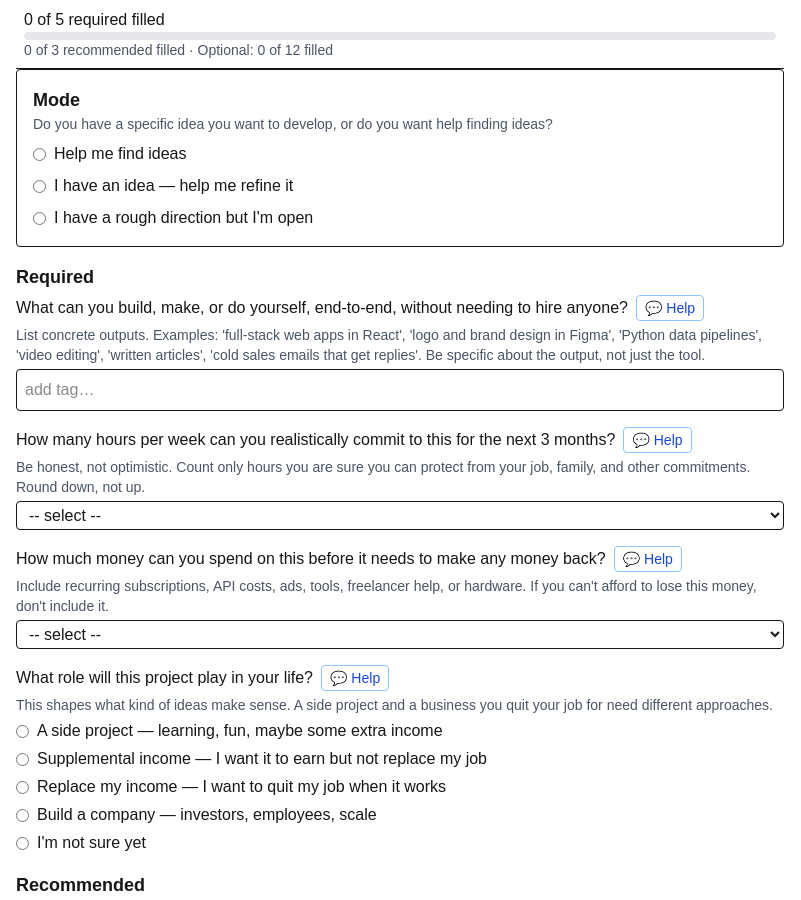
ProfileForm › shows error message when submit fetch fails
Note: Fill required
Click the radio button labelled "Help me find ideas" at (40, 154), box 33,148 -> 46,160
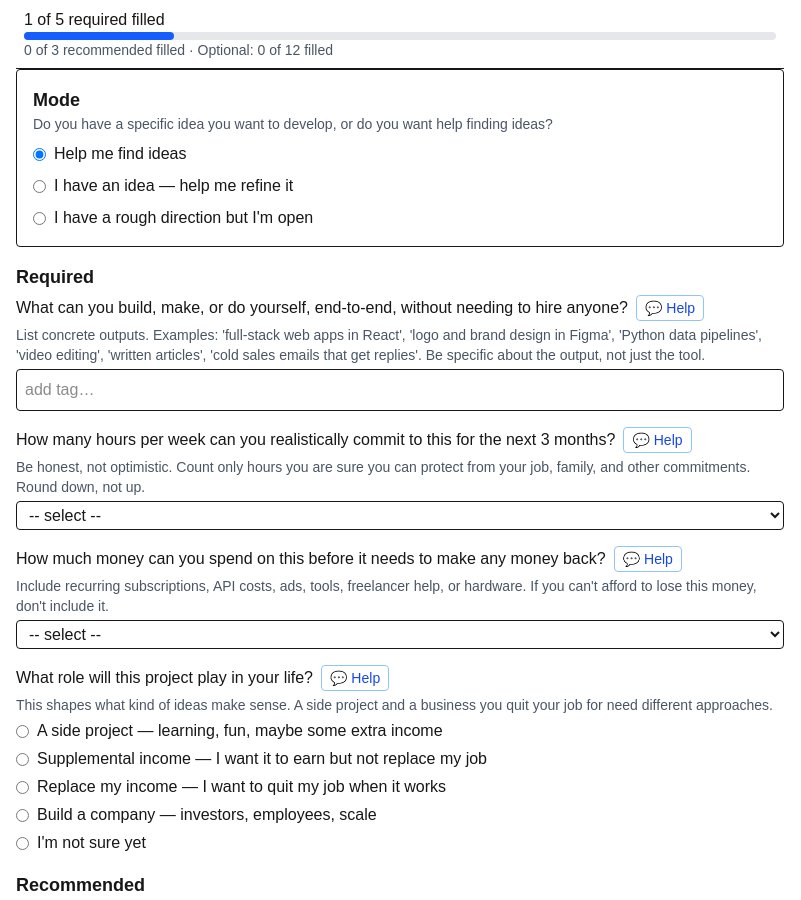
Type "React" into the field with placeholder "add tag…" at (400, 390), box 25,378 -> 775,402
Press Enter in the field with placeholder "add tag…", box 25,378 -> 775,402
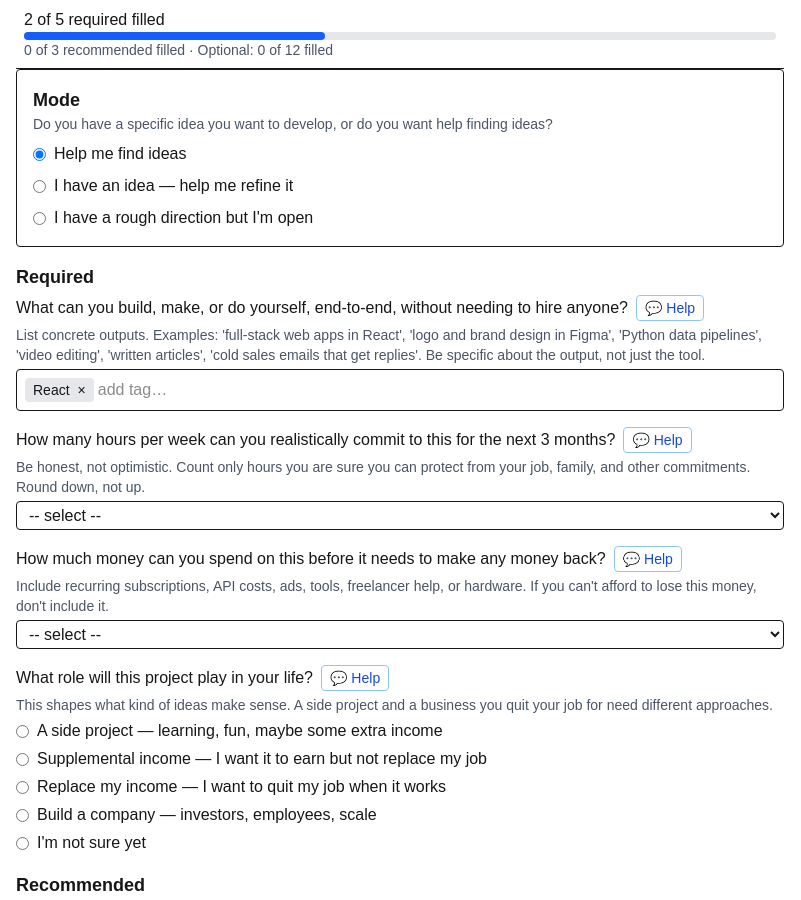
Select "10 hours" in the 1st dropdown at (400, 516), box 16,501 -> 784,530
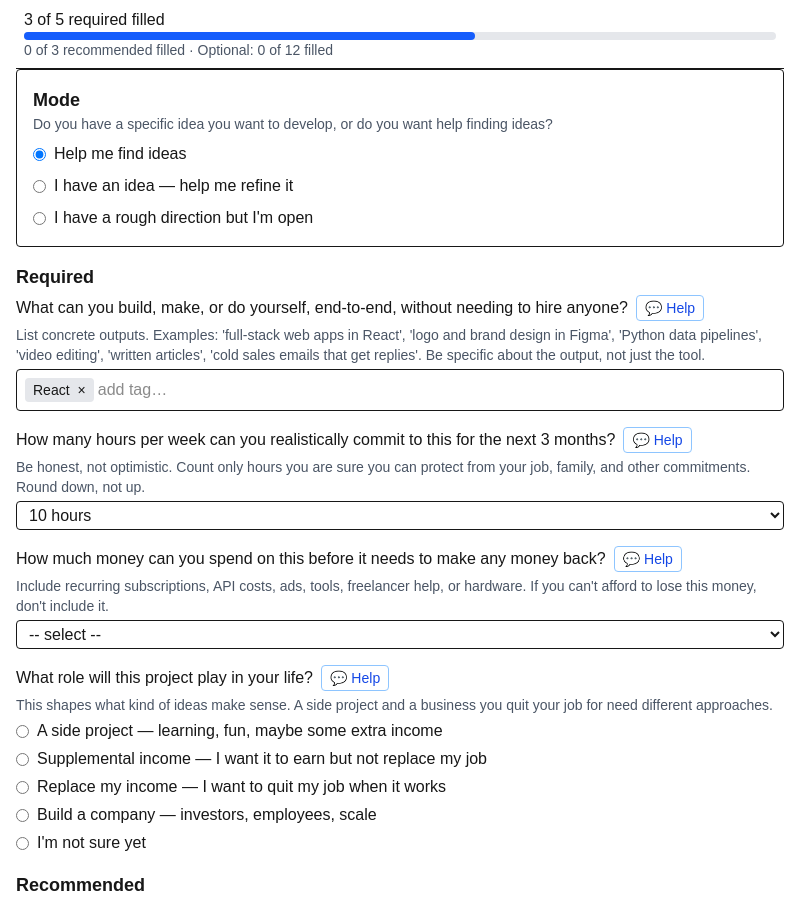
Select "Under $500" in the 2nd dropdown at (400, 634), box 16,620 -> 784,649
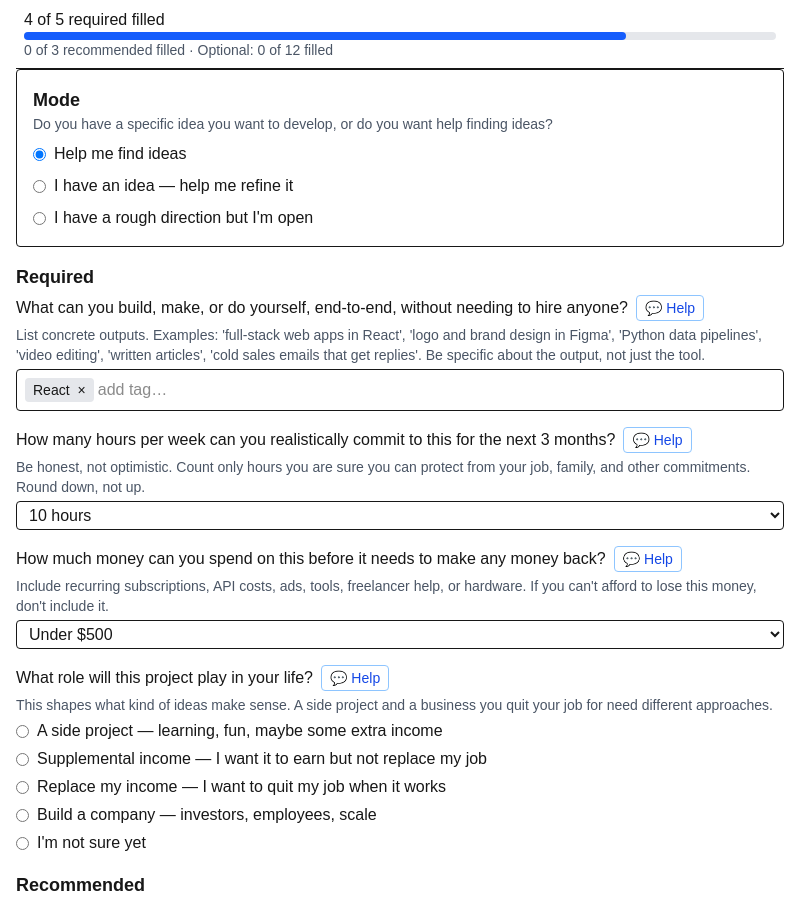
Click the radio button labelled "A side project — learning, fun, maybe some extra income" at (22, 731), box 16,724 -> 29,738
(page scrolled)
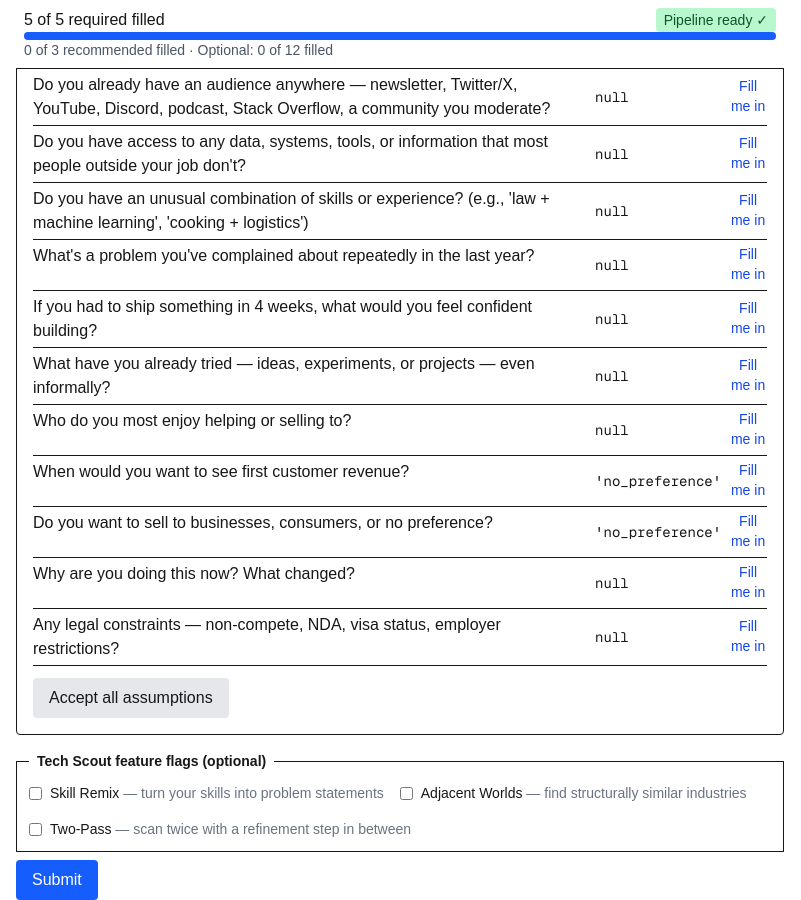
Result: the button "Submit" is enabled
Click the button "Submit" at (57, 880), box 16,860 -> 98,899
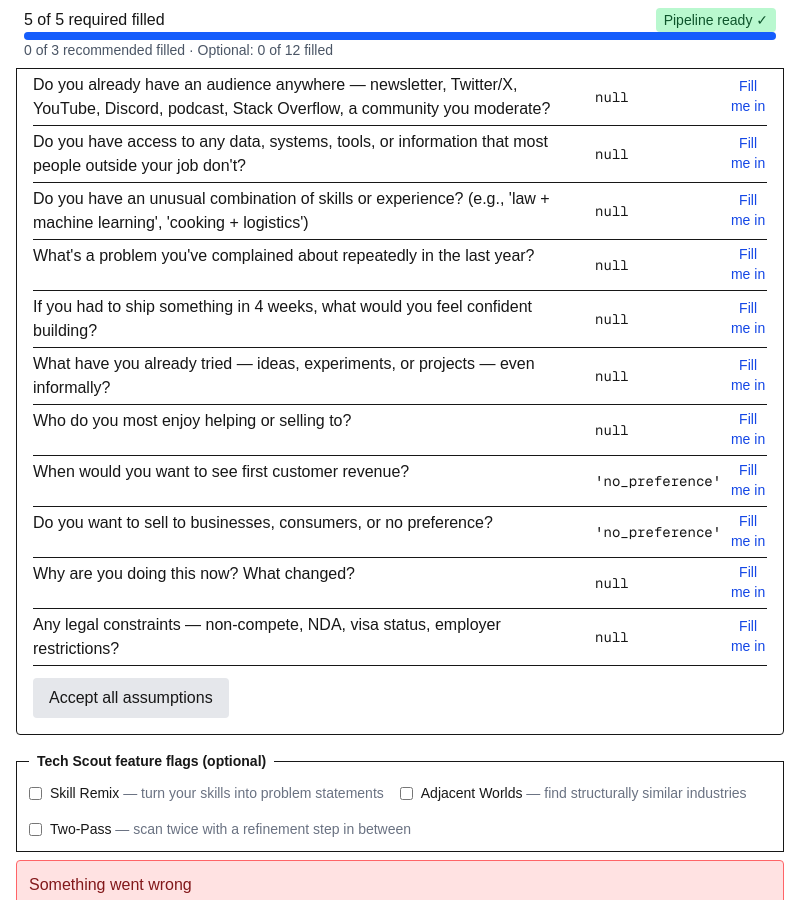
Result: the text "Something went wrong" is shown at 29,876 -> 192,893
